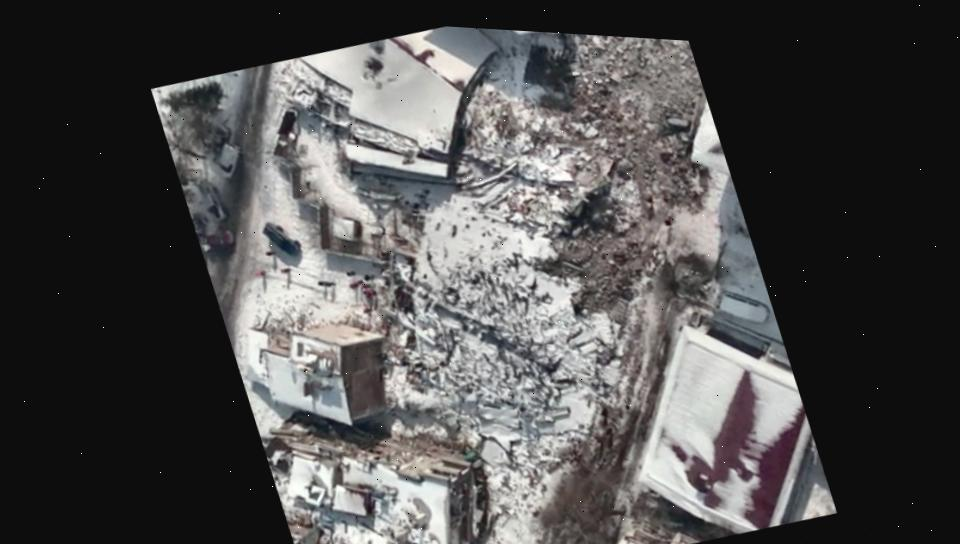kapali: (553, 38, 727, 483)
